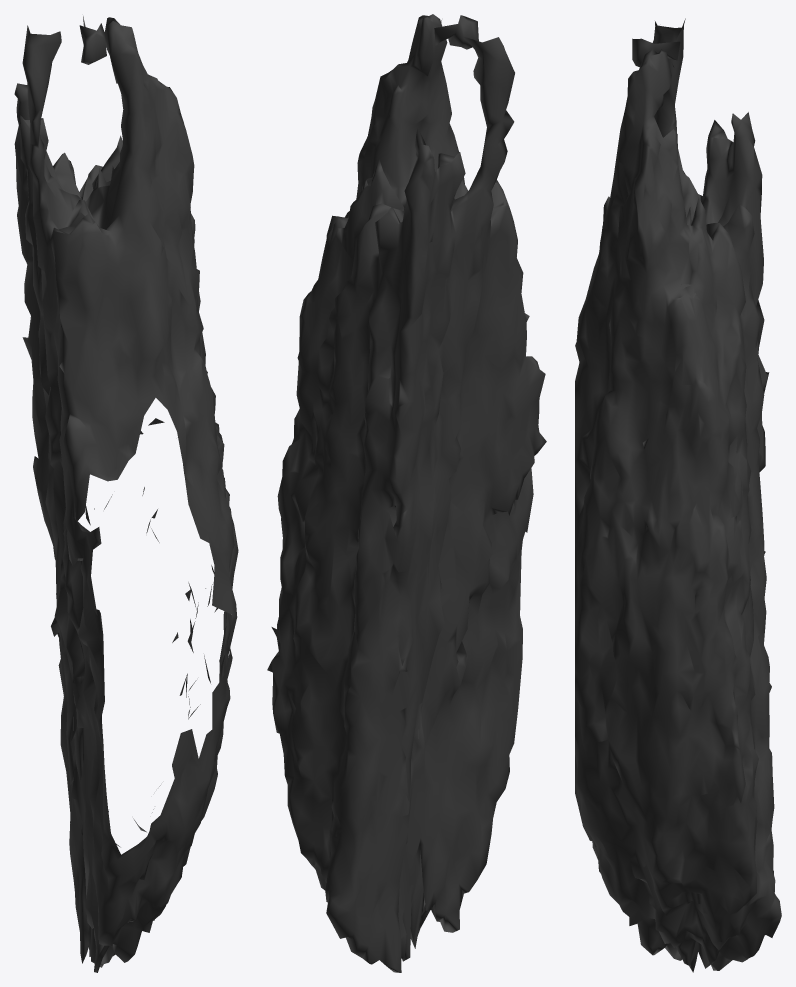
The model's file is spire-0.glb.
The picture shows the model from 3 angles, left to right: view 1: azimuth 30°, elevation 25°; view 2: azimuth 150°, elevation 25°; view 3: azimuth 270°, elevation 25°; orthographic projection. The views are drawn at different scales.
Visible parts, largest first — view 1: geometry_0; view 2: geometry_0; view 3: geometry_0.
Boxes of the visible parts, x1,y1,x2,y2 form: geometry_0: (14, 16, 238, 972); geometry_0: (267, 14, 546, 972); geometry_0: (575, 18, 781, 972).
Size of the model in its own units: 0.232 by 1 by 0.2034.
1 material, 1 textured.
